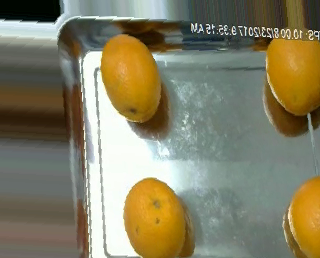Orange: (101, 33, 161, 122), (123, 176, 187, 257), (264, 27, 319, 117)
